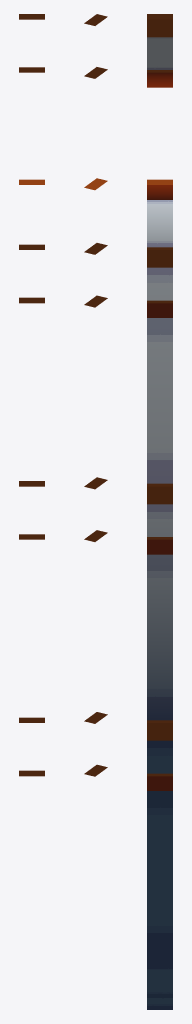
The picture shows the model from 3 angles, left to right: view 1: azimuth 90°, elevation 25°; view 2: azimuth 150°, elevation 25°; view 3: azimuth 270°, elevation 25°; orthographic projection.
Bounding box in the file's own units: 0.5 × 42 × 1.
Materials: 2 (2 with a texture image).
